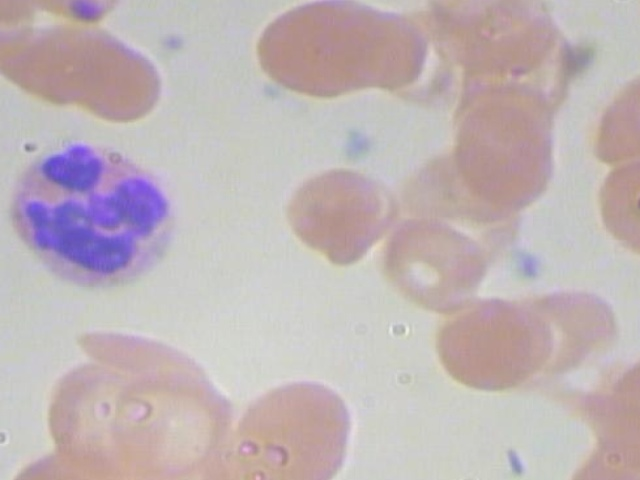Platelets: (333, 126, 381, 163), (509, 247, 554, 284), (64, 0, 108, 33)
RBC: (104, 359, 240, 480), (217, 374, 358, 480), (249, 0, 387, 103), (375, 210, 498, 317), (443, 101, 566, 208), (277, 161, 394, 272), (433, 289, 546, 391), (68, 27, 173, 126)
WBC: (0, 134, 203, 303)
